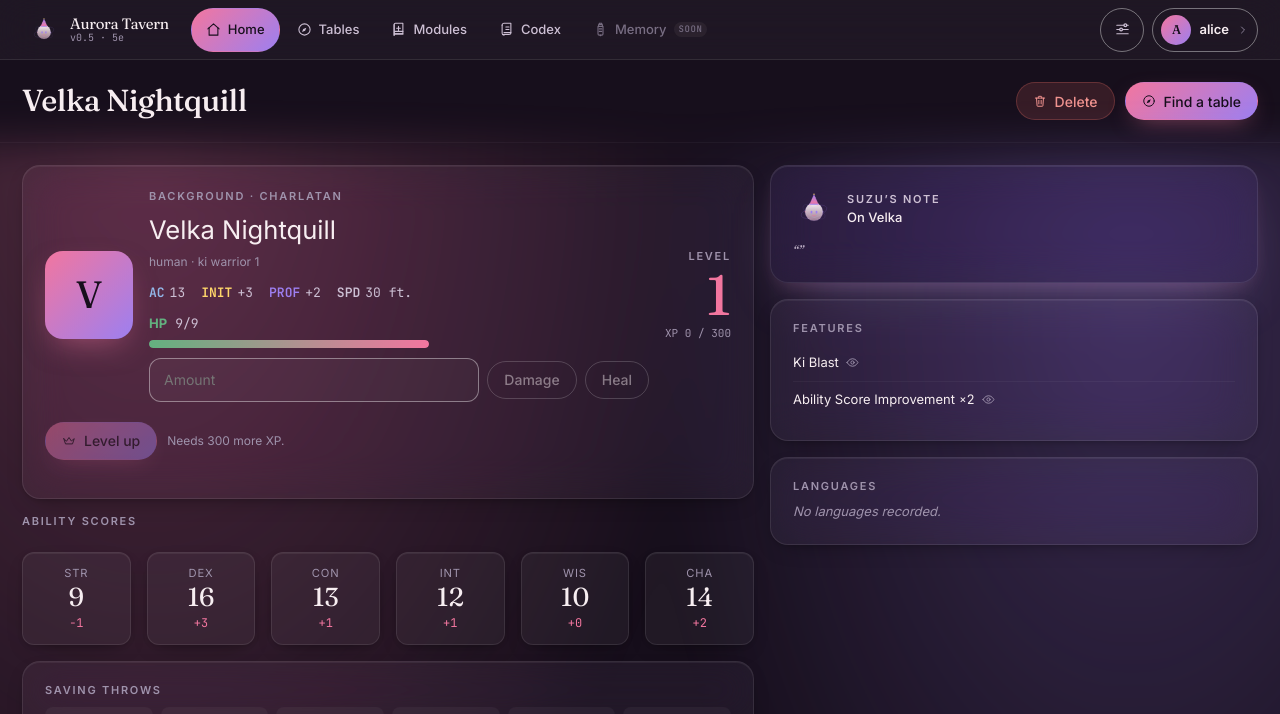
Test case: Character sheet — TAV-CLASS-FEATURE-TEXT (scaffolding filter, ASI dedupe, rules text) › hides scaffolding menu labels, collapses repeated ASI into one row with a count, and resolves rules text by name from the class catalog
Expected: the heading "Velka Nightquill" is shown, [22,84,246,118]
Expected: the text "Ki Blast" is shown, [793,353,863,373]
Rules text resolves via the same popover pattern feature_choices uses.
Click the button named "Feature details: Ki Blast": (853, 363) [843,353,863,373]
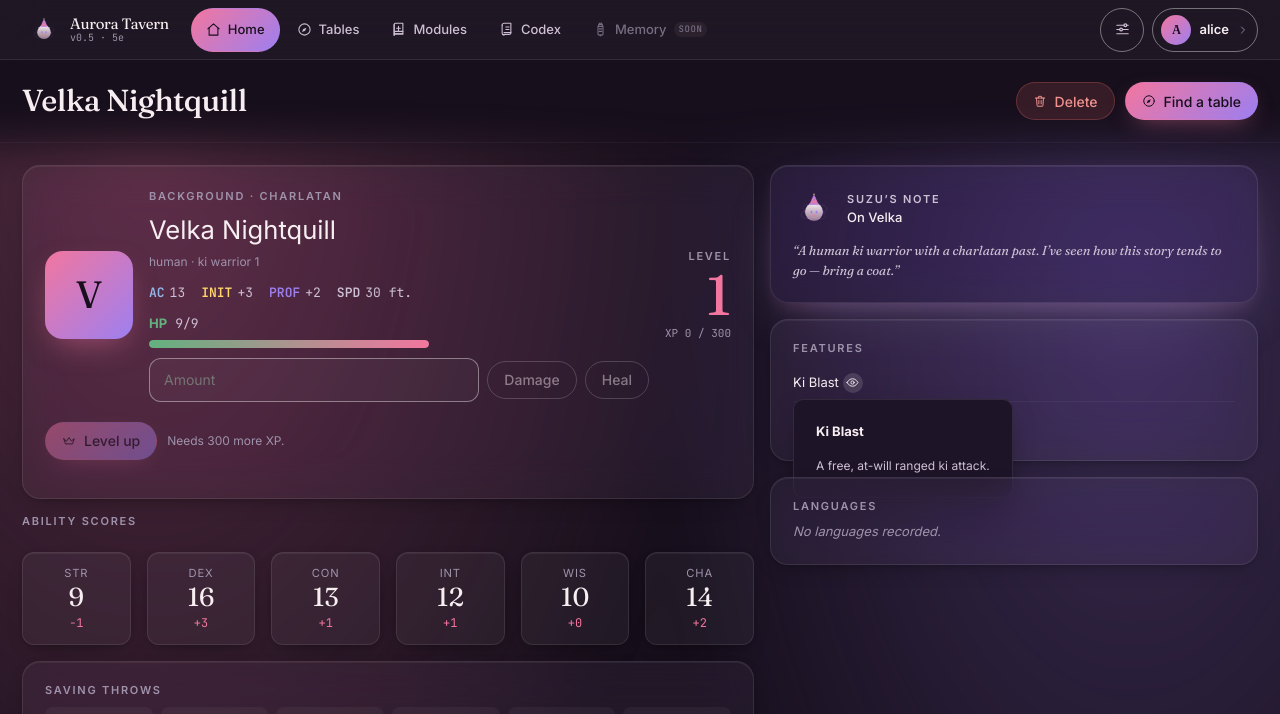
Now the text "A free, at-will ranged ki attack." is shown, box [816,457,990,475]
